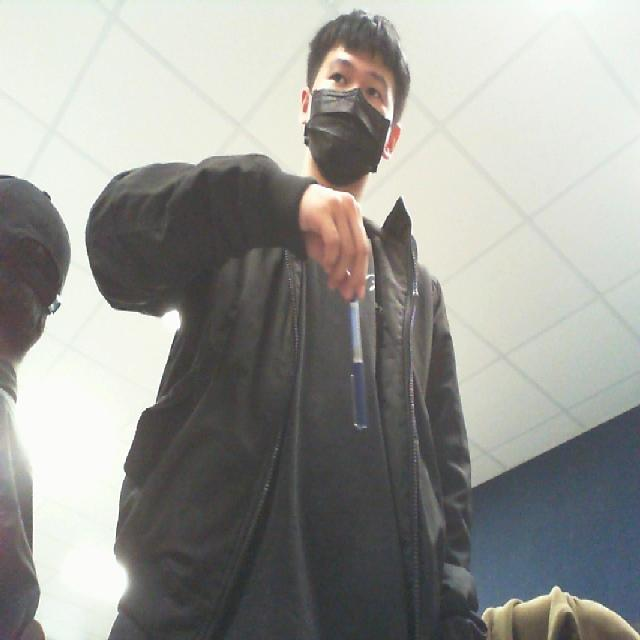Pen: (332, 279, 384, 478)
